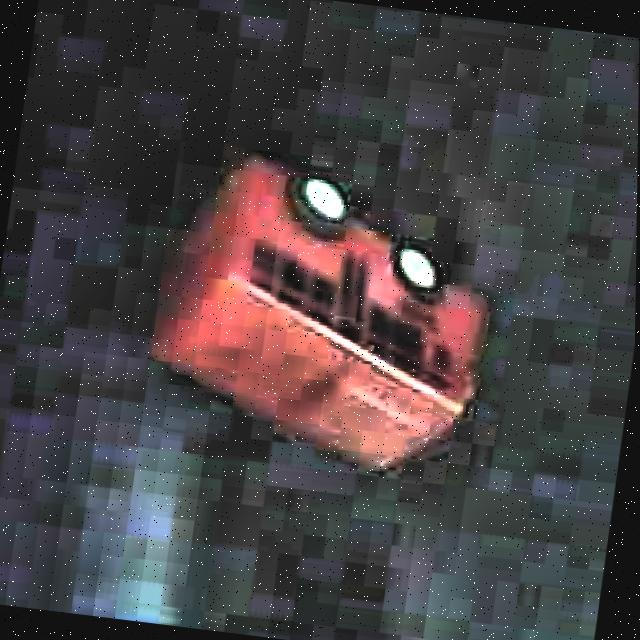bus: (125, 128, 519, 494)
